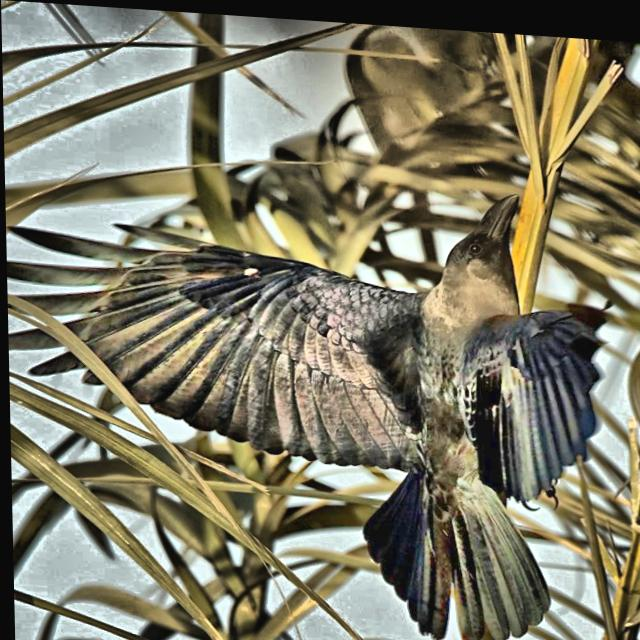crow: (68, 145, 617, 640)
